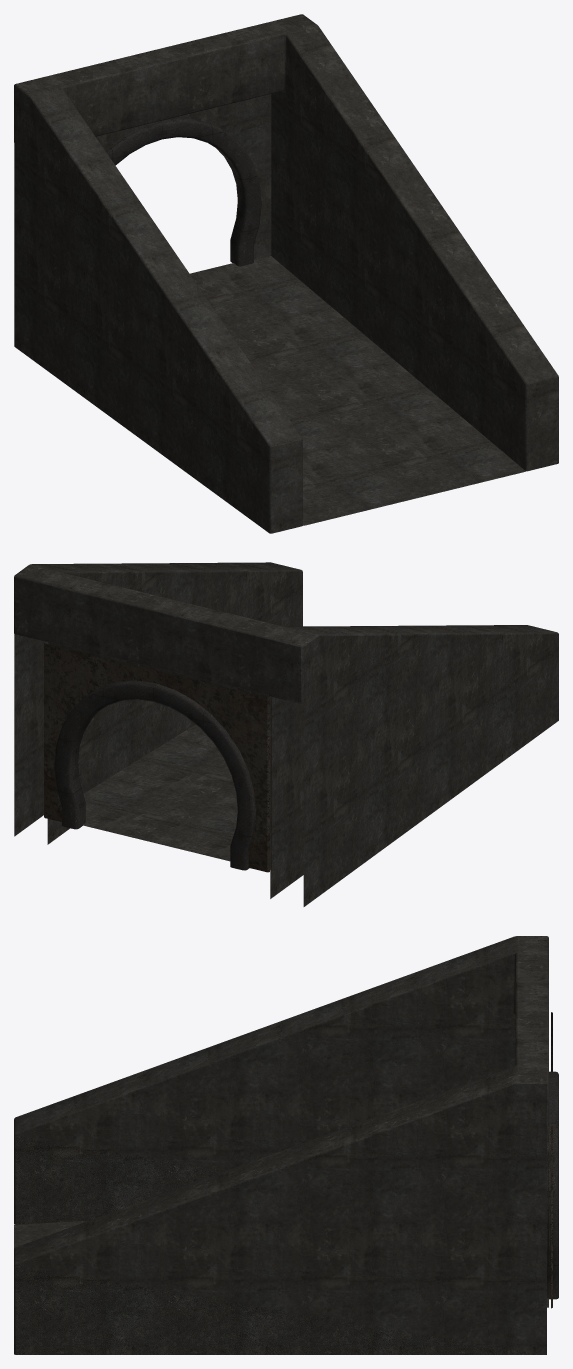
Rendered from bunker_entrance_1.glb.
3 renders of one model, top to bottom at view 1: azimuth 30°, elevation 25°; view 2: azimuth 150°, elevation 25°; view 3: azimuth 270°, elevation 25°, orthographic. The views are drawn at different scales.
Parts seen in each view (by area): view 1: bunker_entrance_1; view 2: bunker_entrance_1; view 3: bunker_entrance_1.
Boxes of the visible parts, x1,y1,x2,y2 form: bunker_entrance_1: (14,14,558,533); bunker_entrance_1: (14,562,558,906); bunker_entrance_1: (14,936,558,1354).
Bounding box in the file's own units: 5.2 × 4.5 × 8.15.
3 materials, 3 textured.
